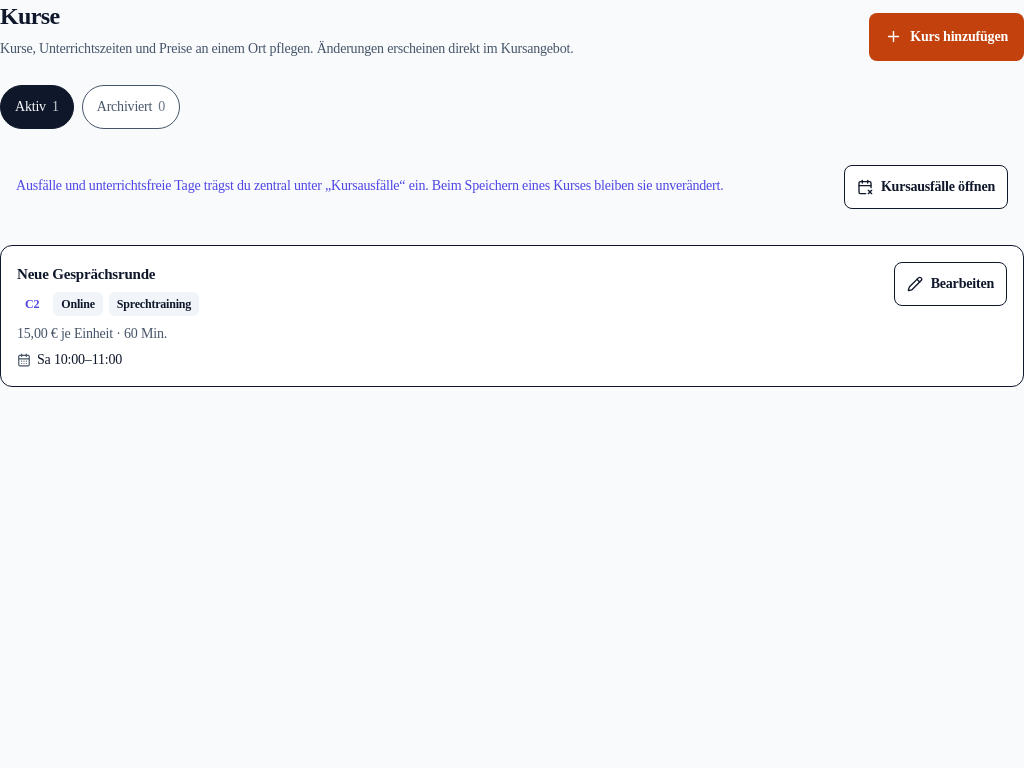
Test: edits dynamic course copy and archives within a bounded dialog, retaining the public course identity
Click the button with aria-label "Neue Gesprächsrunde bearbeiten".
click(950, 284)  # box [894, 262, 1007, 306]
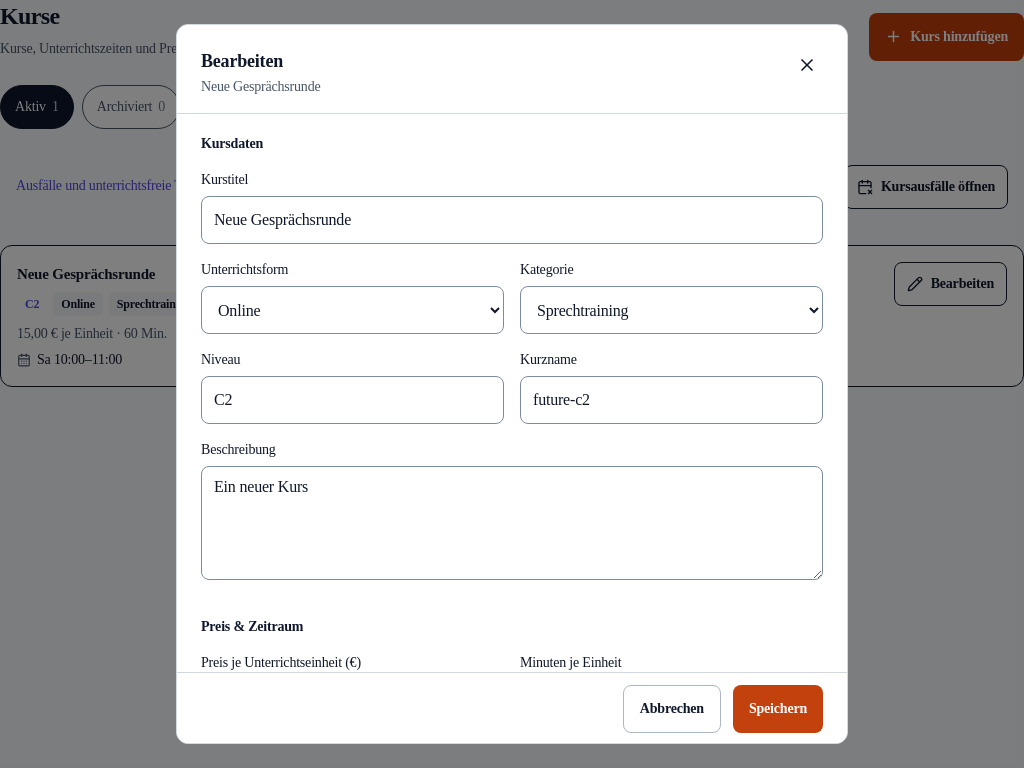
Replace the text in the field labelled "Kurstitel" with "Gesprächsrunde am Samstag" at (512, 220), box [201, 196, 823, 244]
(page scrolled)
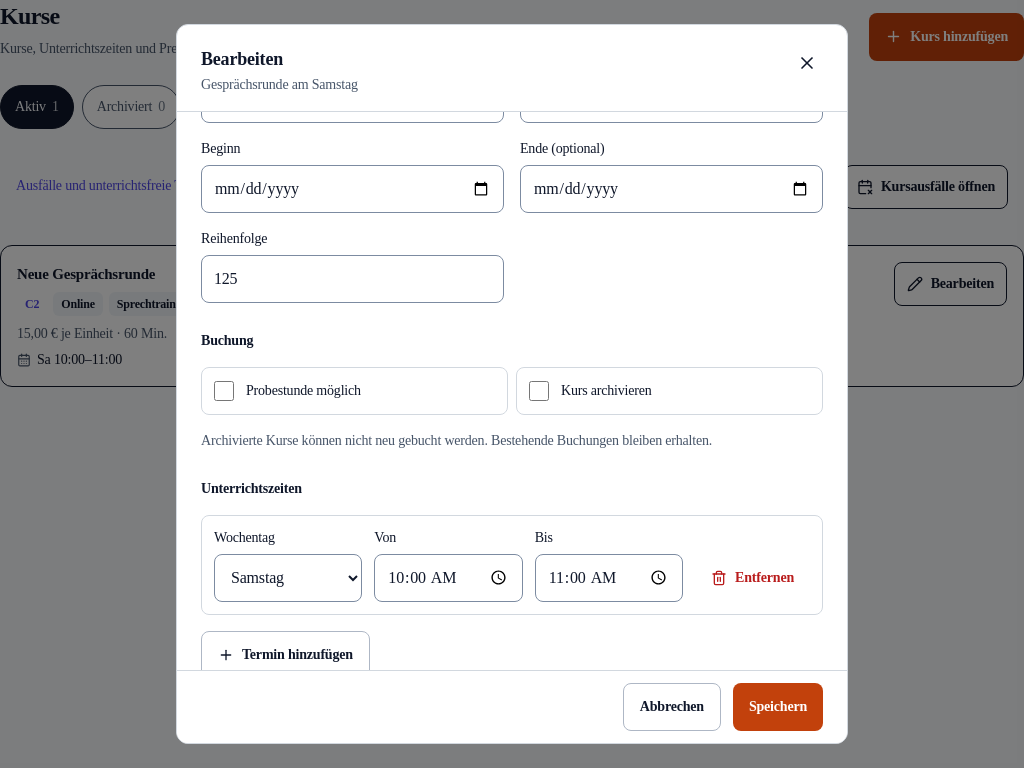
Click the checkbox labelled "Kurs archivieren".
click(539, 391)  # box [529, 381, 549, 401]
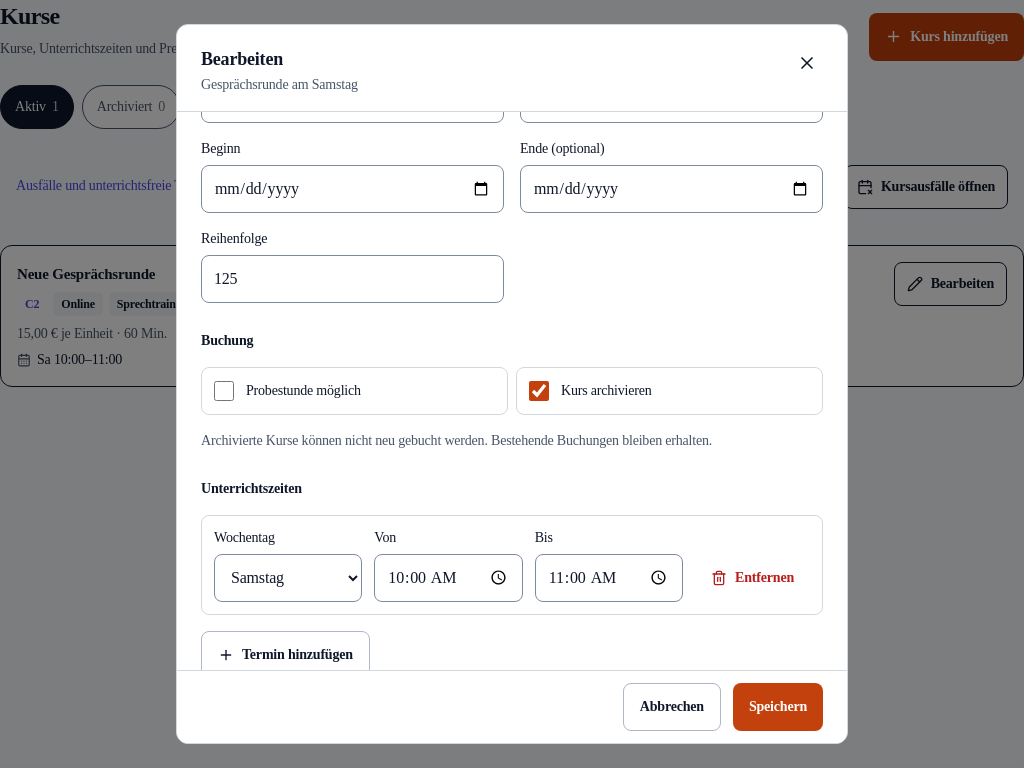
Click the button "Speichern".
click(778, 707)  # box [733, 683, 823, 731]
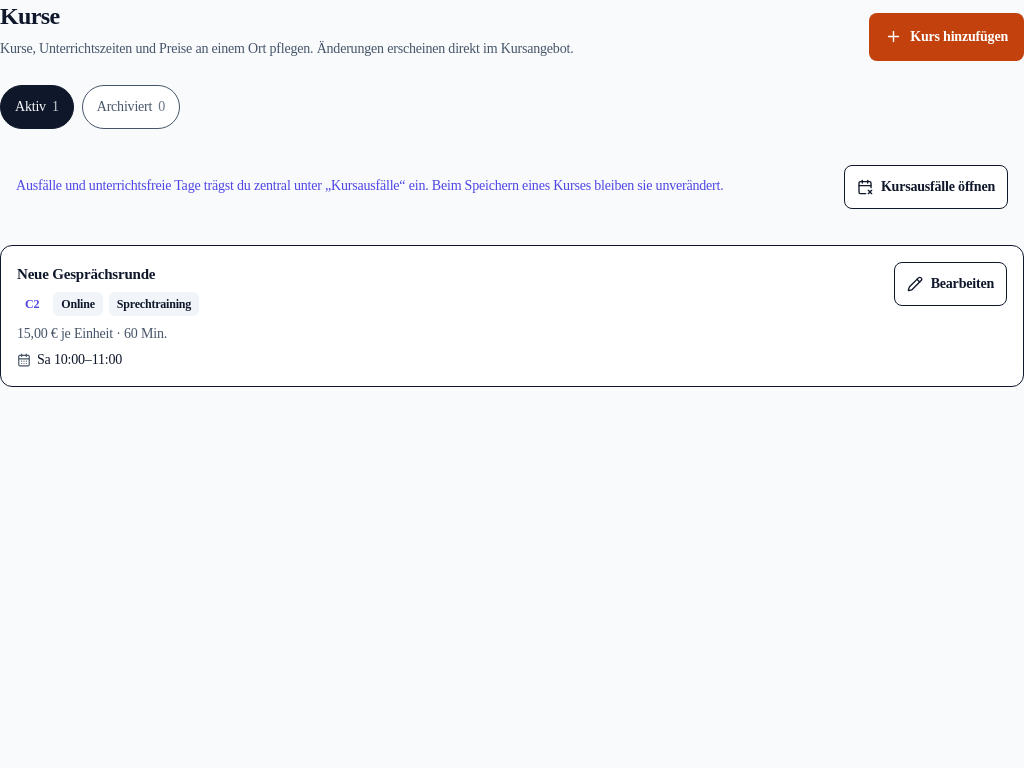
Expected: the dialog is gone
